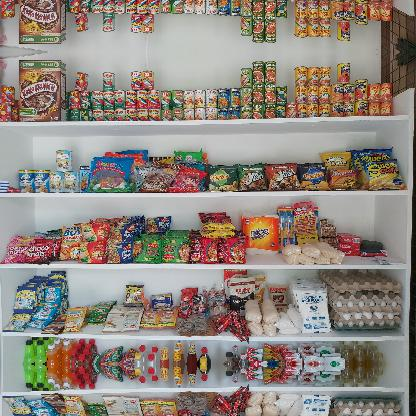Koko-Krunch: (18, 60, 66, 121), (18, 0, 67, 45)
